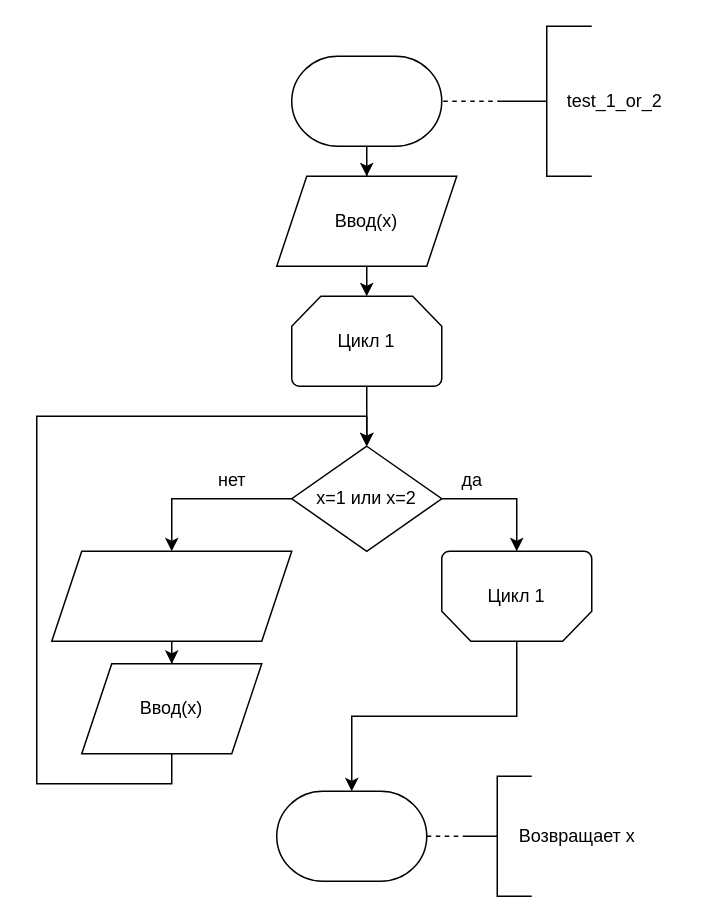
This 708x923 diagram has some shape labels left out. Here are the shapes that lost their labels. From the top down, the centre of each, then its label:
(x=366, y=100): Начало
(x=171, y=595): Вывод("Ошибка. Введите 1 или 2: ")
(x=351, y=835): Конец
